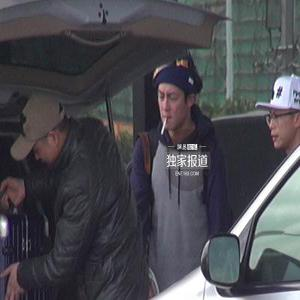cigarette: (160, 118, 167, 136)
